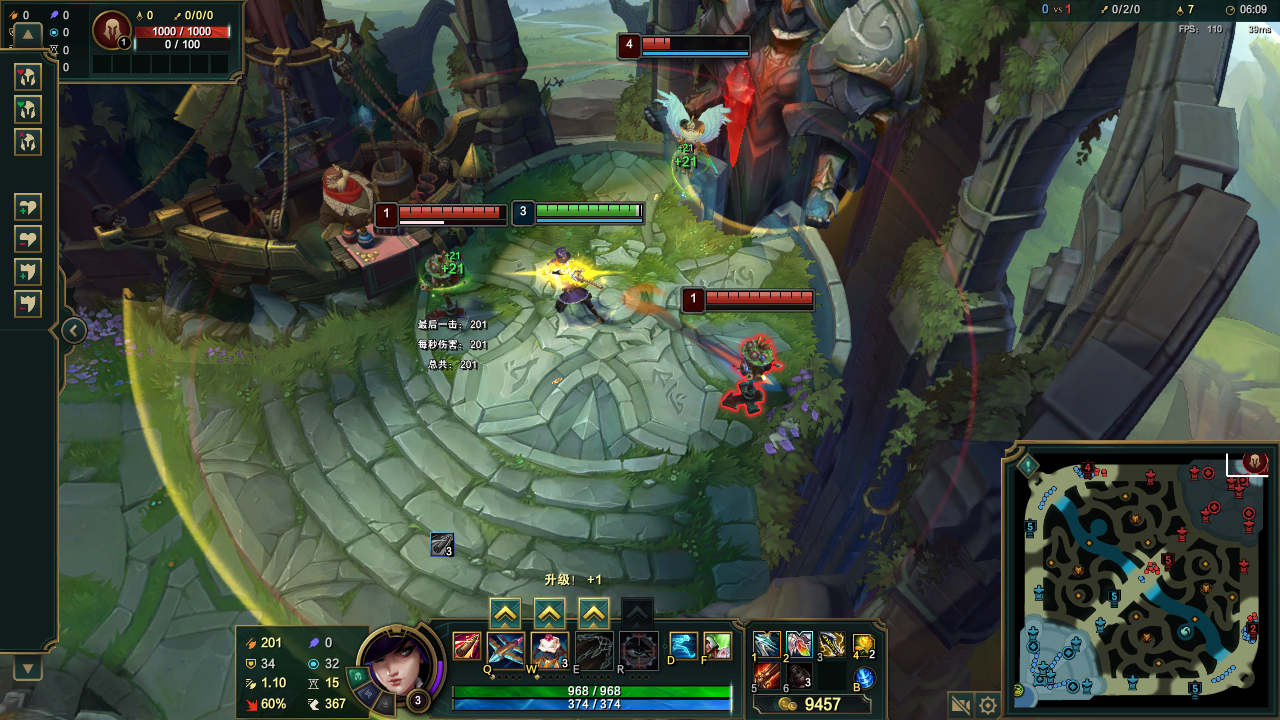DFYX: (643, 34, 751, 50), (398, 204, 509, 219), (708, 288, 813, 302)
